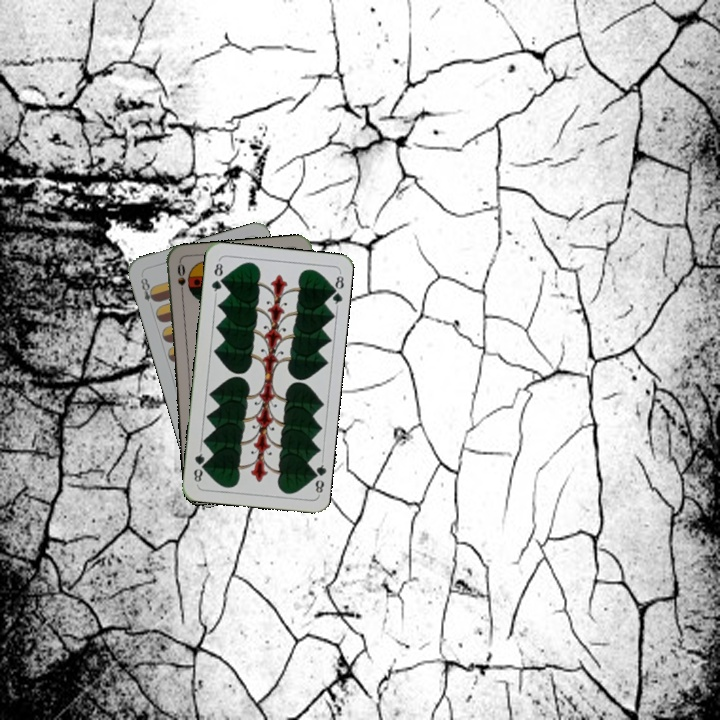E8: (136, 271, 159, 305)
G8: (307, 457, 328, 497), (207, 257, 226, 297)
SO: (173, 259, 188, 300)
